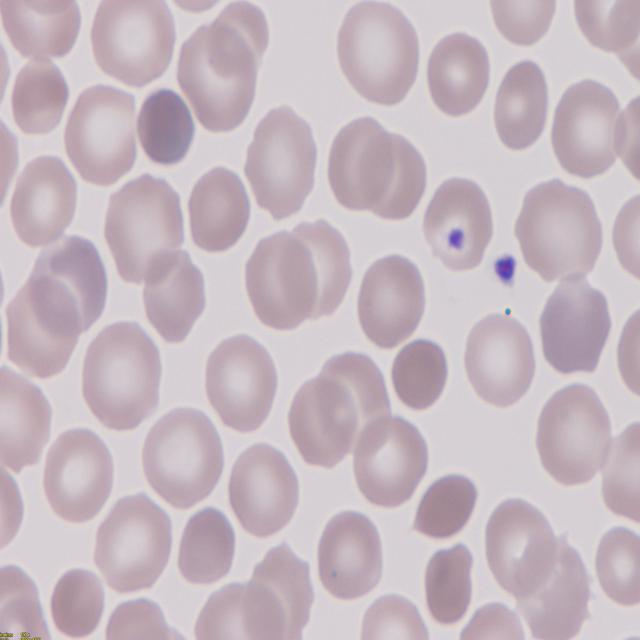Platelets: (492, 252, 518, 288)
RBC: (98, 171, 188, 292), (512, 178, 607, 288), (242, 104, 324, 224), (178, 20, 262, 136), (81, 318, 166, 432), (336, 0, 425, 108), (138, 406, 224, 517), (532, 380, 616, 490), (92, 491, 178, 597), (546, 76, 628, 185), (4, 278, 86, 384), (36, 422, 117, 527), (242, 229, 322, 335), (63, 84, 143, 190), (348, 412, 430, 514), (460, 310, 540, 412), (423, 172, 501, 276), (481, 492, 558, 596), (88, 0, 179, 88), (536, 278, 612, 383), (226, 441, 304, 543), (202, 334, 278, 437), (354, 253, 428, 354), (356, 128, 432, 226), (314, 507, 390, 604), (9, 152, 82, 252), (324, 110, 396, 208), (288, 371, 357, 472), (424, 29, 496, 120), (139, 248, 208, 342), (0, 362, 57, 474), (488, 55, 553, 153), (186, 162, 252, 254), (194, 581, 290, 640), (0, 0, 89, 63), (176, 504, 242, 586), (593, 419, 640, 527), (413, 471, 479, 547), (9, 63, 73, 141), (48, 563, 108, 640), (590, 522, 640, 612), (570, 0, 640, 62), (484, 0, 562, 54), (358, 592, 433, 640), (100, 593, 175, 640), (0, 456, 30, 558), (609, 189, 640, 286), (456, 599, 526, 640), (613, 86, 640, 188), (616, 296, 640, 409), (0, 115, 18, 226), (160, 0, 240, 15), (0, 25, 11, 121), (592, 630, 640, 639)
Spherocyte: (136, 85, 198, 170), (387, 335, 450, 412)
